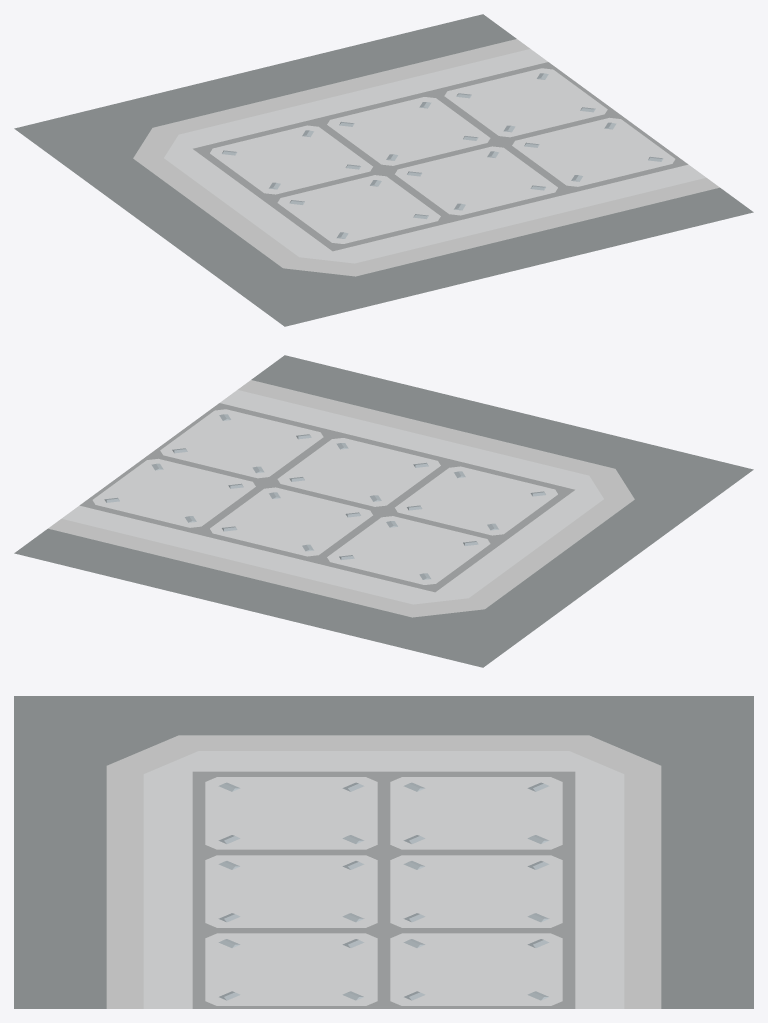
Rendered from Floor_type_A_002.glb.
3 renders of one model, top to bottom at view 1: azimuth 30°, elevation 25°; view 2: azimuth 150°, elevation 25°; view 3: azimuth 270°, elevation 25°, orthographic. The views are drawn at different scales.
Parts seen in each view (by area): view 1: Floor_type_A_002; view 2: Floor_type_A_002; view 3: Floor_type_A_002.
Boxes of the visible parts, x1,y1,x2,y2 form: Floor_type_A_002: [14, 14, 753, 326]; Floor_type_A_002: [14, 355, 753, 667]; Floor_type_A_002: [14, 696, 753, 1008].
Size of the model in its own units: 4 by 0.008 by 4.
Materials: 1 (1 with a texture image).
